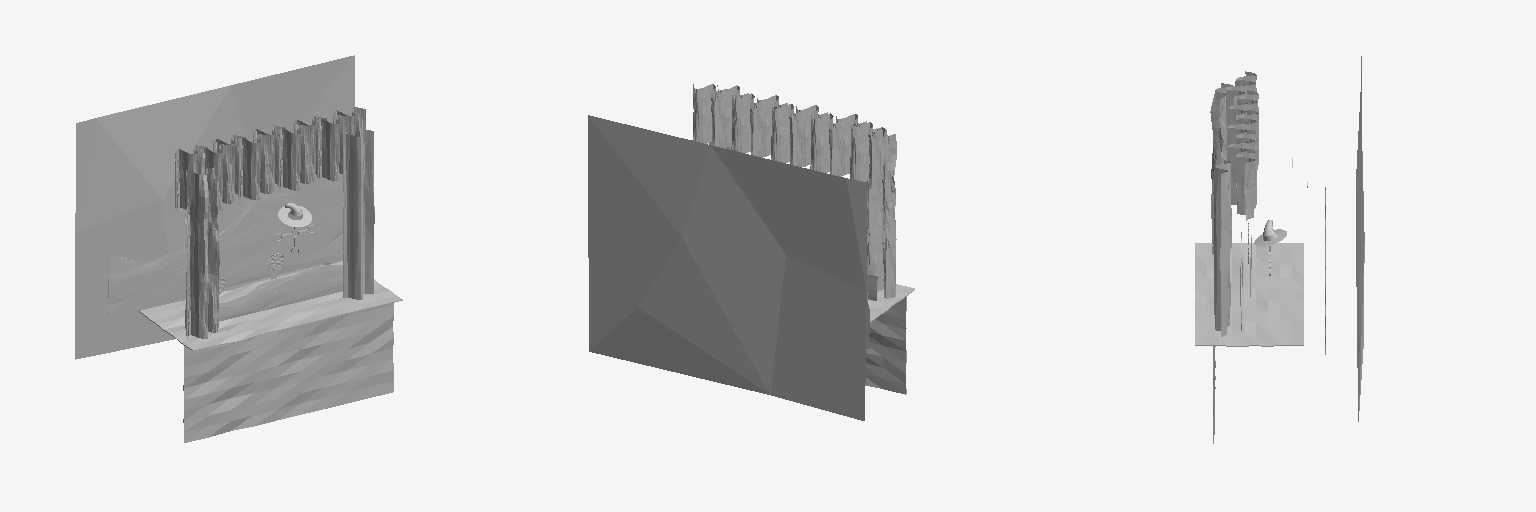
Rendered from backdrop_low.obj.
3 views of the same model, side by side, from view 1: azimuth 30°, elevation 25°; view 2: azimuth 150°, elevation 25°; view 3: azimuth 270°, elevation 25° (orthographic).
Parts seen in each view (by area): view 1: Mesh_Grid_Grid.001, Grid.001_Grid.002, Grid.003, Grid, Plane, Plane.001, Grid.002_Grid.001, Plane.004, Plane.007_Plane.008, Plane.002, Plane.008_Plane.009, Plane.009_Plane.010 (+2 smaller); view 2: Mesh_Grid_Grid.001, Plane, Grid.001_Grid.002, Plane.009_Plane.010, Plane.010_Plane.011, Plane.003, Plane.006_Plane.007, Plane.005, Grid, Plane.007_Plane.008, Plane.008_Plane.009, Plane.004 (+1 smaller); view 3: Grid, Plane.001, Mesh_Grid_Grid.001, Plane, Plane.010_Plane.011, Plane.002.
Part boxes in pixels (x1,y1,x2,y2): Mesh_Grid_Grid.001: (75,55,354,359); Grid.001_Grid.002: (183,303,393,442); Grid.003: (108,173,343,315); Grid: (139,261,402,351); Plane: (185,168,219,338); Plane.001: (343,130,374,299); Grid.002_Grid.001: (185,265,342,329); Plane.004: (278,125,311,190); Plane.007_Plane.008: (238,134,270,200); Plane.002: (317,115,349,180); Plane.008_Plane.009: (200,144,233,210); Plane.009_Plane.010: (175,145,207,210); Mesh_Grid_Grid.001: (588,115,866,420); Plane: (867,127,896,298); Grid.001_Grid.002: (865,297,906,394); Plane.009_Plane.010: (850,122,881,189); Plane.010_Plane.011: (692,84,724,147); Plane.003: (731,93,763,157); Plane.006_Plane.007: (810,113,842,176); Plane.005: (771,104,802,166); Grid: (868,284,914,322); Plane.007_Plane.008: (796,105,827,166); Plane.008_Plane.009: (836,114,866,175); Plane.004: (757,95,787,156); Grid: (1195,243,1303,346); Plane.001: (1213,160,1230,336); Mesh_Grid_Grid.001: (1356,56,1364,421); Plane: (1210,83,1232,254); Plane.010_Plane.011: (1236,148,1256,220); Plane.002: (1227,139,1247,204).
Size of the model in its own units: 10.99 by 10.33 by 5.77.